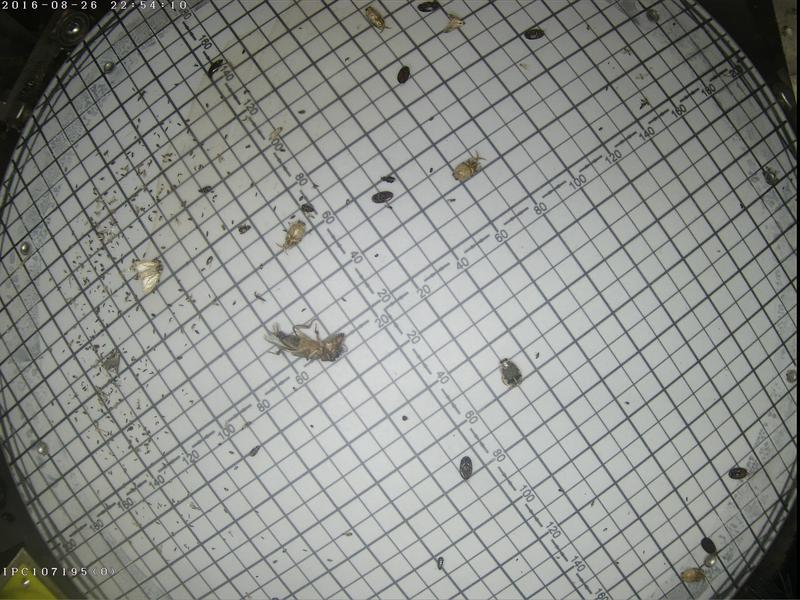Gryllotalpa orientalis: (266, 316, 345, 364)
Stem borer: (130, 256, 161, 287)
